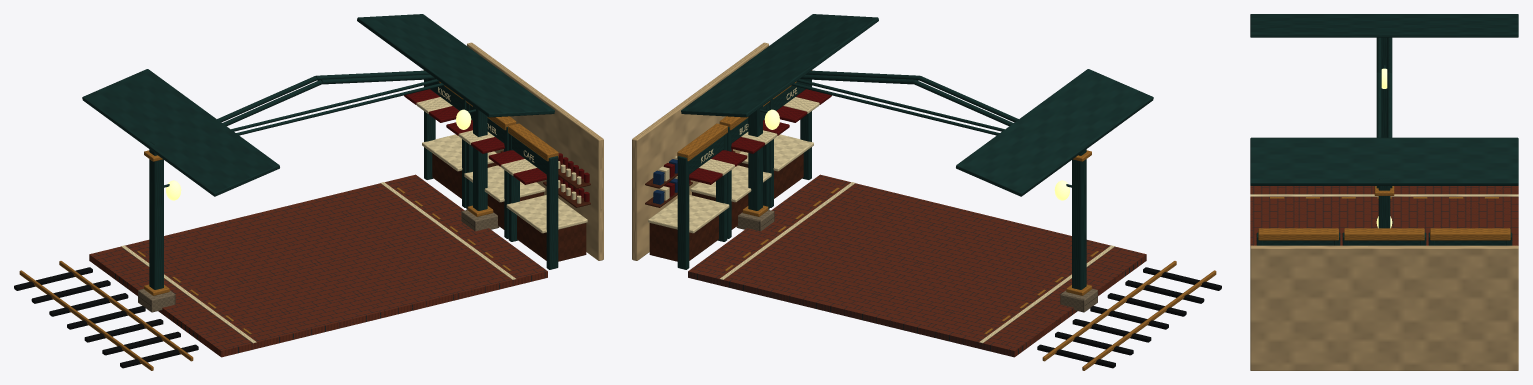
The model's file is station-shops-v1-BGz487A5.glb.
3 renders of one model, left to right at view 1: azimuth 30°, elevation 25°; view 2: azimuth 150°, elevation 25°; view 3: azimuth 270°, elevation 25°, orthographic.
Parts seen in each view (by area): view 1: Platform paving, Fluted iron column, Roof left, Roof right, Platform edge stripe, Shop rear wall, Shop display cabinet, Tactile edge stud, Rail sleeper, Coffee tin, Column stone plinth, Opal station lamp; view 2: Platform paving, Fluted iron column, Roof left, Roof right, Platform edge stripe, Shop rear wall, Tactile edge stud, Rail sleeper, Shop display cabinet, Coffee tin, Column stone plinth, Opal station lamp; view 3: Shop rear wall, Roof right, Platform paving, Roof left, Fluted iron column, Tactile edge stud, Platform edge stripe.
Boxes of the visible parts, x1=… form: Platform paving: x1=89, y1=174, x2=547, y2=357; Fluted iron column: x1=149, y1=60, x2=558, y2=289; Roof left: x1=82, y1=69, x2=279, y2=196; Roof right: x1=357, y1=14, x2=554, y2=117; Platform edge stripe: x1=121, y1=87, x2=587, y2=343; Shop rear wall: x1=467, y1=42, x2=603, y2=260; Shop display cabinet: x1=432, y1=150, x2=590, y2=261; Tactile edge stud: x1=19, y1=70, x2=558, y2=370; Rail sleeper: x1=14, y1=267, x2=198, y2=368; Coffee tin: x1=404, y1=89, x2=589, y2=201; Column stone plinth: x1=138, y1=210, x2=499, y2=312; Opal station lamp: x1=166, y1=109, x2=471, y2=200; Platform paving: x1=688, y1=174, x2=1146, y2=357; Fluted iron column: x1=677, y1=60, x2=1086, y2=289; Roof left: x1=956, y1=69, x2=1153, y2=196; Roof right: x1=681, y1=14, x2=878, y2=117; Platform edge stripe: x1=648, y1=87, x2=1114, y2=343; Shop rear wall: x1=632, y1=42, x2=768, y2=260; Tactile edge stud: x1=677, y1=70, x2=1216, y2=370; Rail sleeper: x1=1037, y1=267, x2=1221, y2=368; Shop display cabinet: x1=645, y1=151, x2=803, y2=261; Coffee tin: x1=664, y1=89, x2=831, y2=196; Column stone plinth: x1=736, y1=210, x2=1097, y2=312; Opal station lamp: x1=764, y1=109, x2=1069, y2=200; Shop rear wall: x1=1250, y1=245, x2=1518, y2=370; Roof right: x1=1250, y1=137, x2=1518, y2=185; Platform paving: x1=1250, y1=186, x2=1518, y2=245; Roof left: x1=1250, y1=14, x2=1518, y2=37; Fluted iron column: x1=1256, y1=15, x2=1512, y2=245; Tactile edge stud: x1=1258, y1=186, x2=1510, y2=240; Platform edge stripe: x1=1250, y1=194, x2=1518, y2=196.
Bounding box in the file's own units: 15.39 × 5.99 × 7.5.
11 materials, 11 textured.
